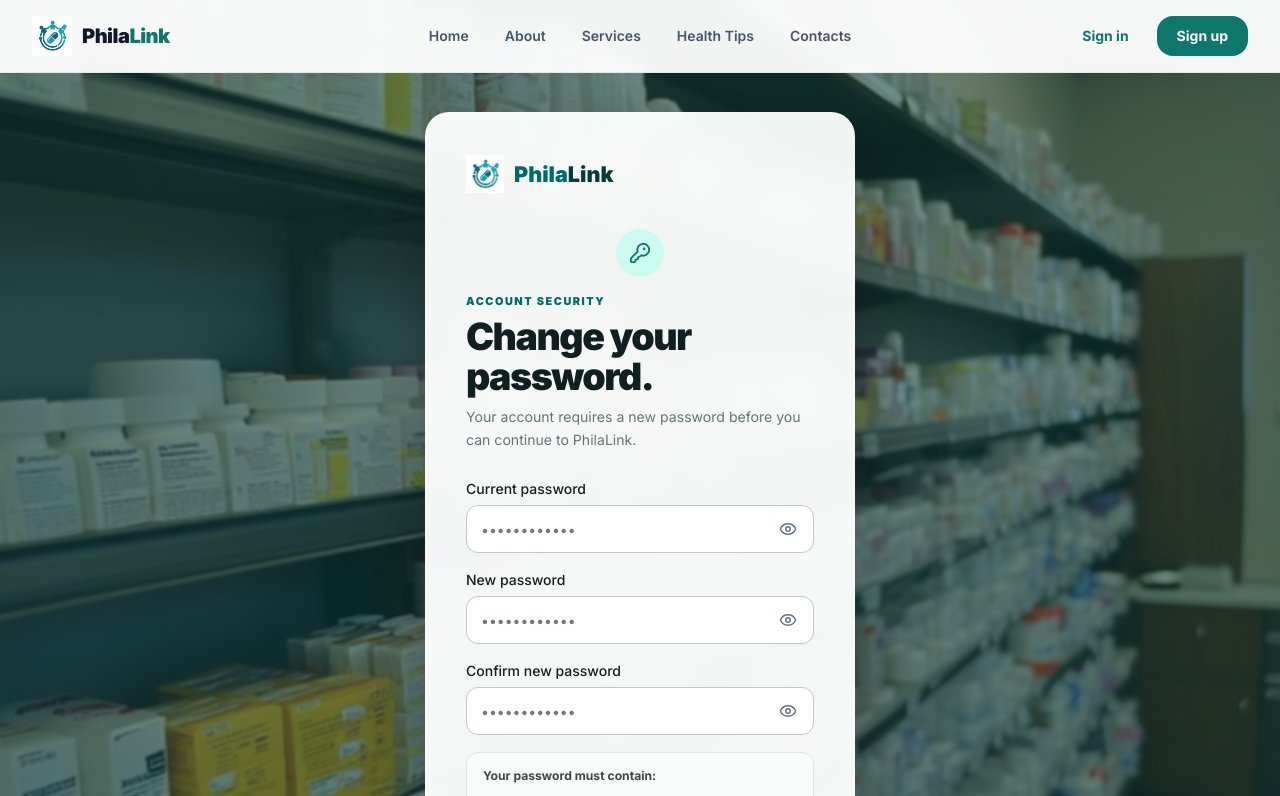
Test: ChangePasswordPage › rejects mismatched confirmation
Type "TemporaryPass!123" into the password field labelled "Current password" at (640, 529), box left=466, top=505, right=814, bottom=553
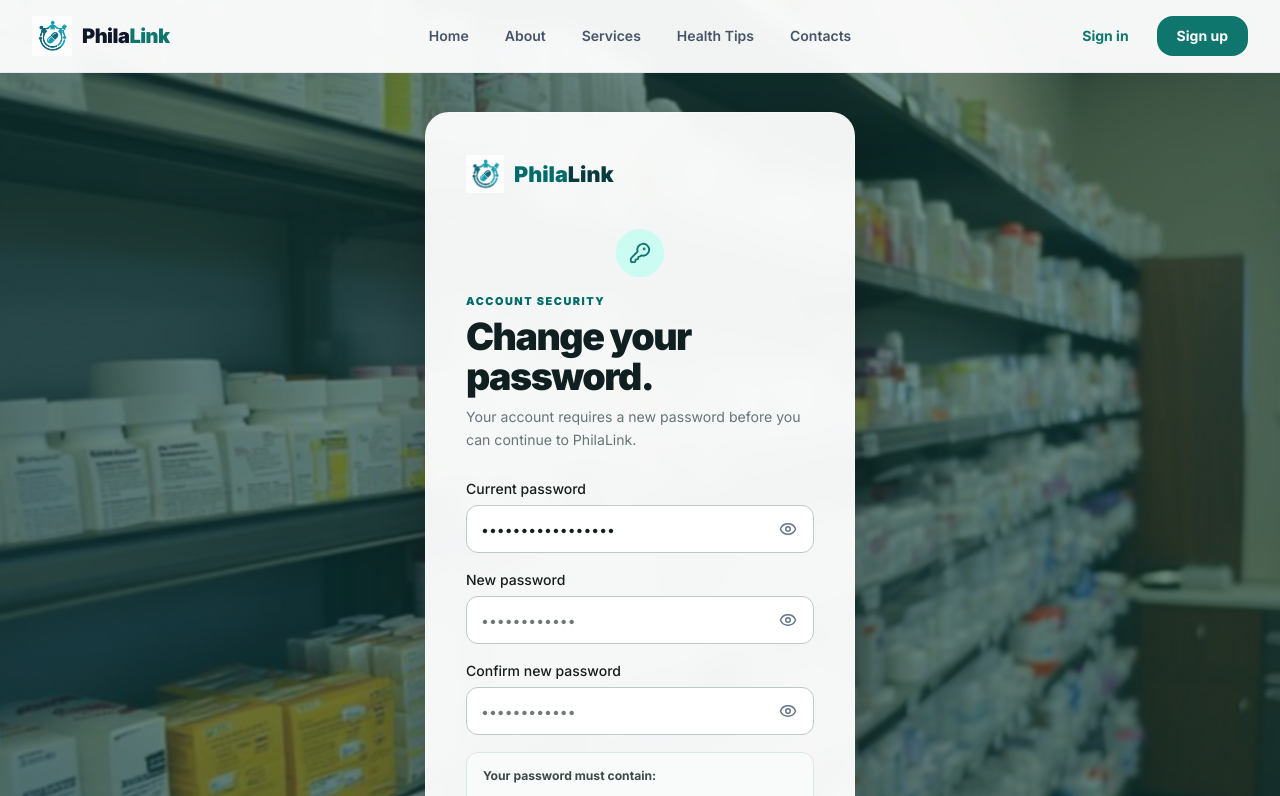
Type "PermanentPass!123" into the password field labelled "New password" at (640, 620), box left=466, top=596, right=814, bottom=644
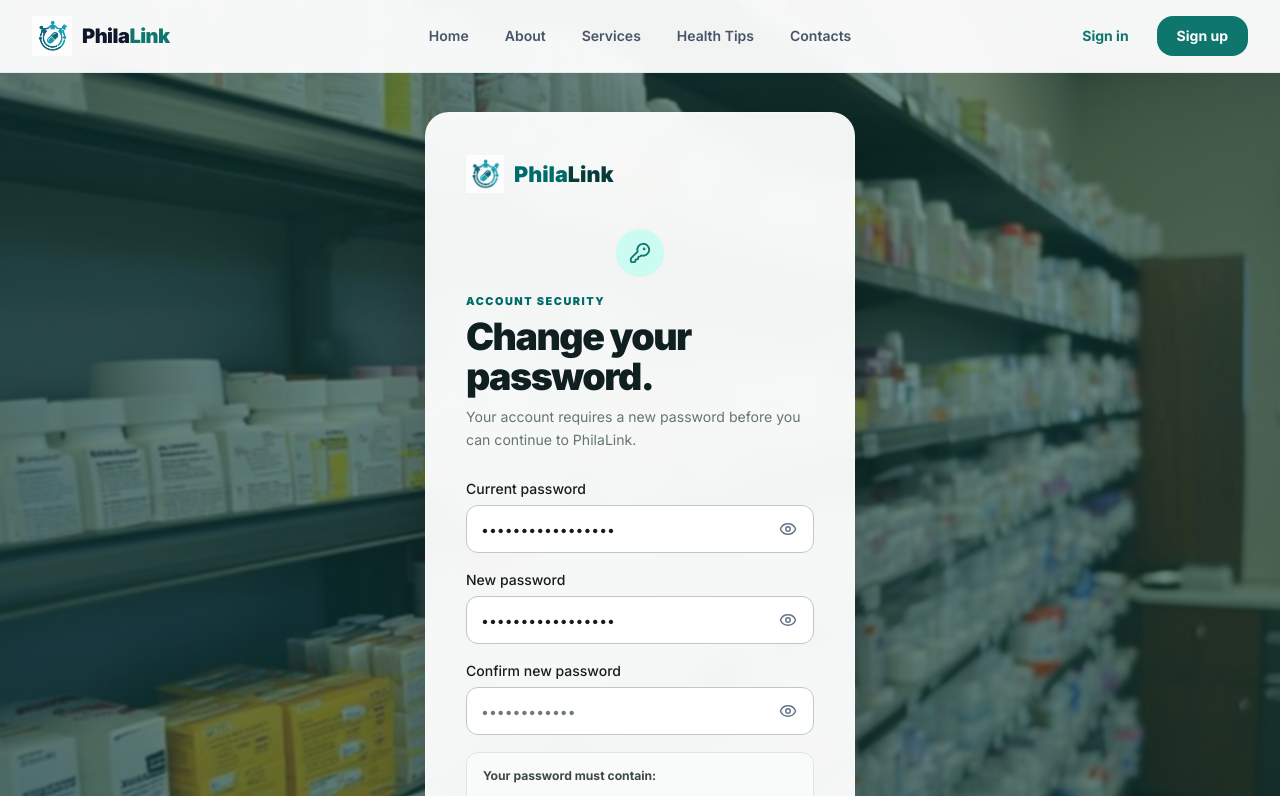
Type "DifferentPass!123" into the password field labelled "Confirm new password" at (640, 711), box left=466, top=687, right=814, bottom=735
(page scrolled)
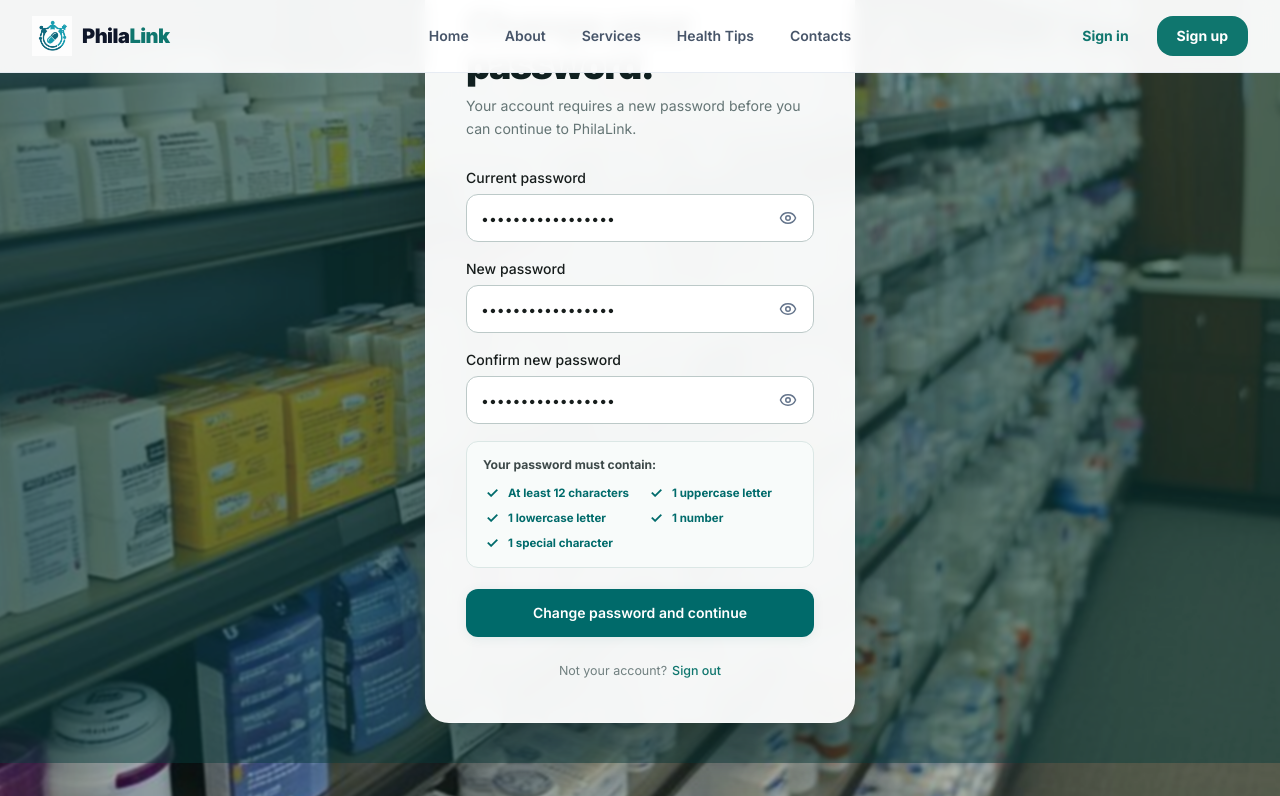
Click the button "Change password and continue" at (640, 612), box left=466, top=588, right=814, bottom=636
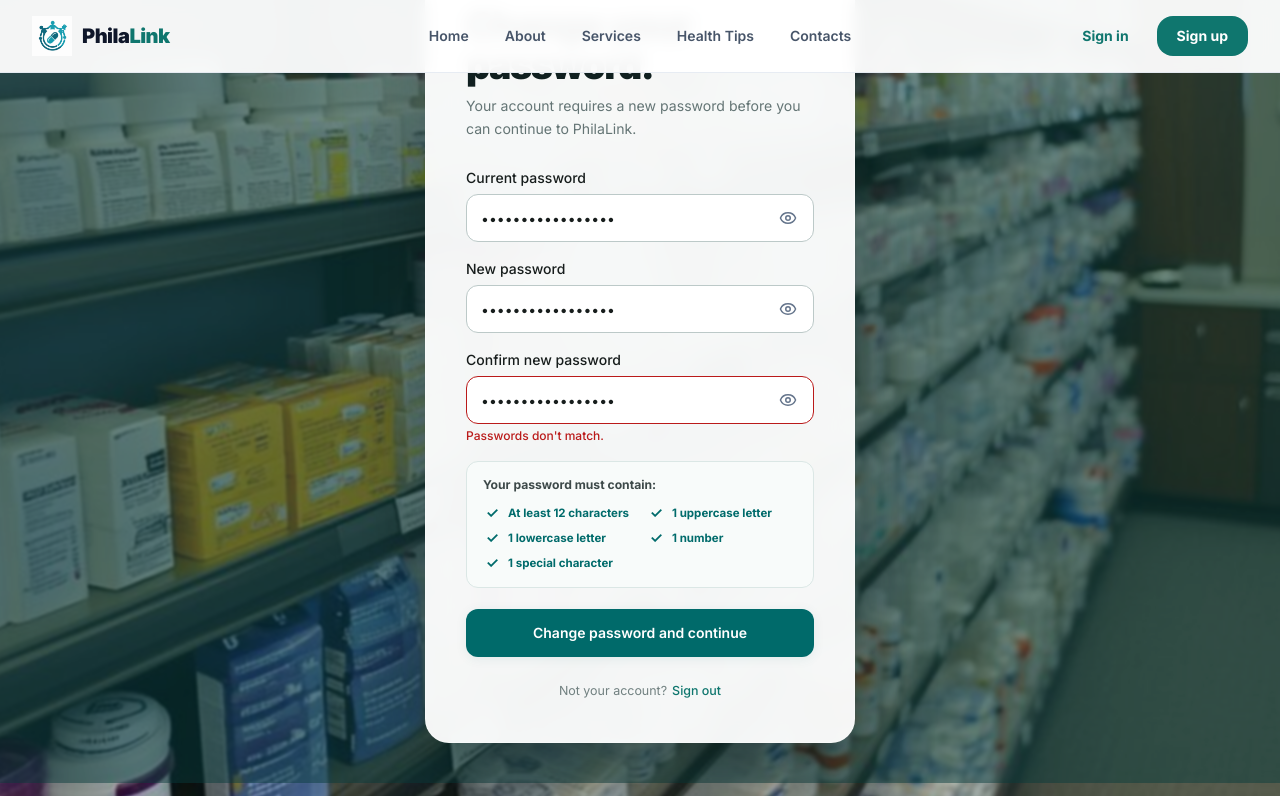
Expected: the text "Passwords don't match." is shown, left=466, top=428, right=604, bottom=443
